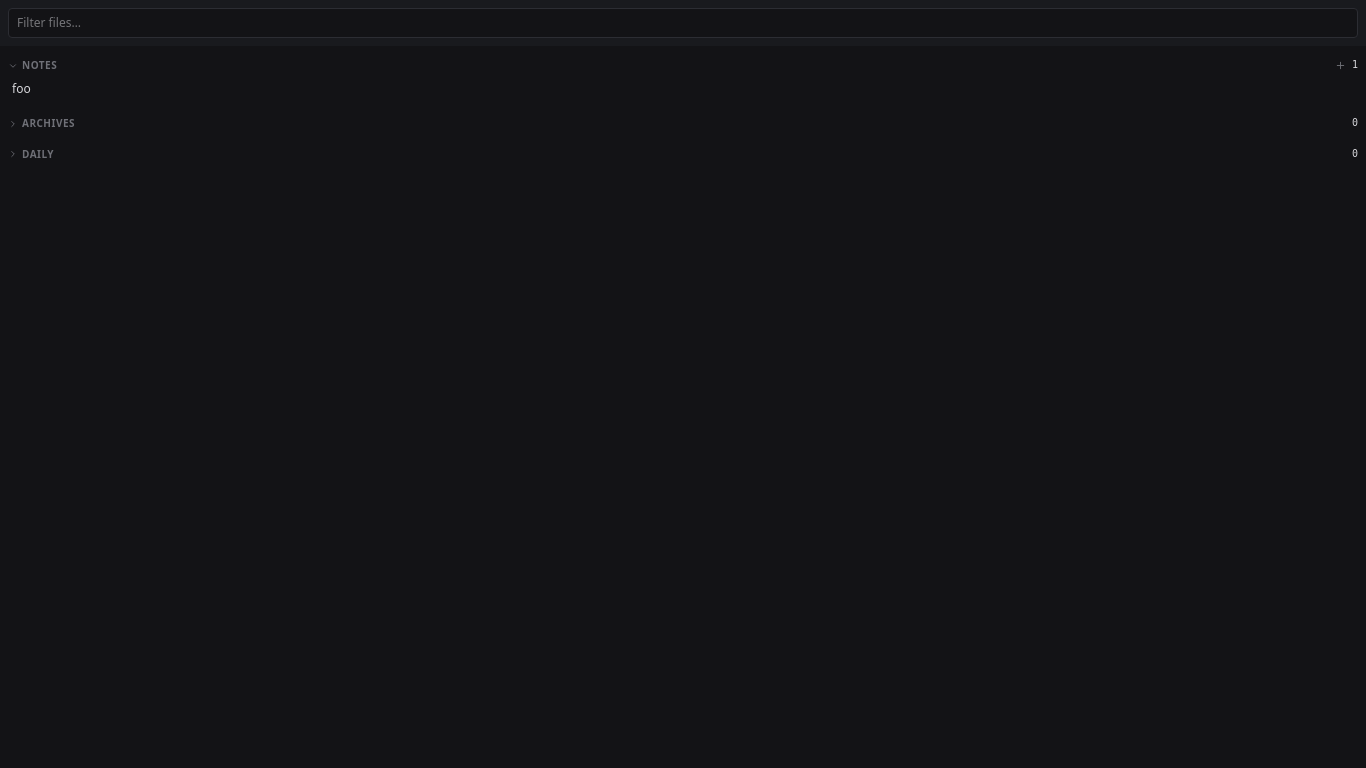
it: CreateNoteDialog › creates a note and pushes to the server-returned path
Click the button with test id "create-note-button" at (1340, 66), box left=1333, top=58, right=1348, bottom=73
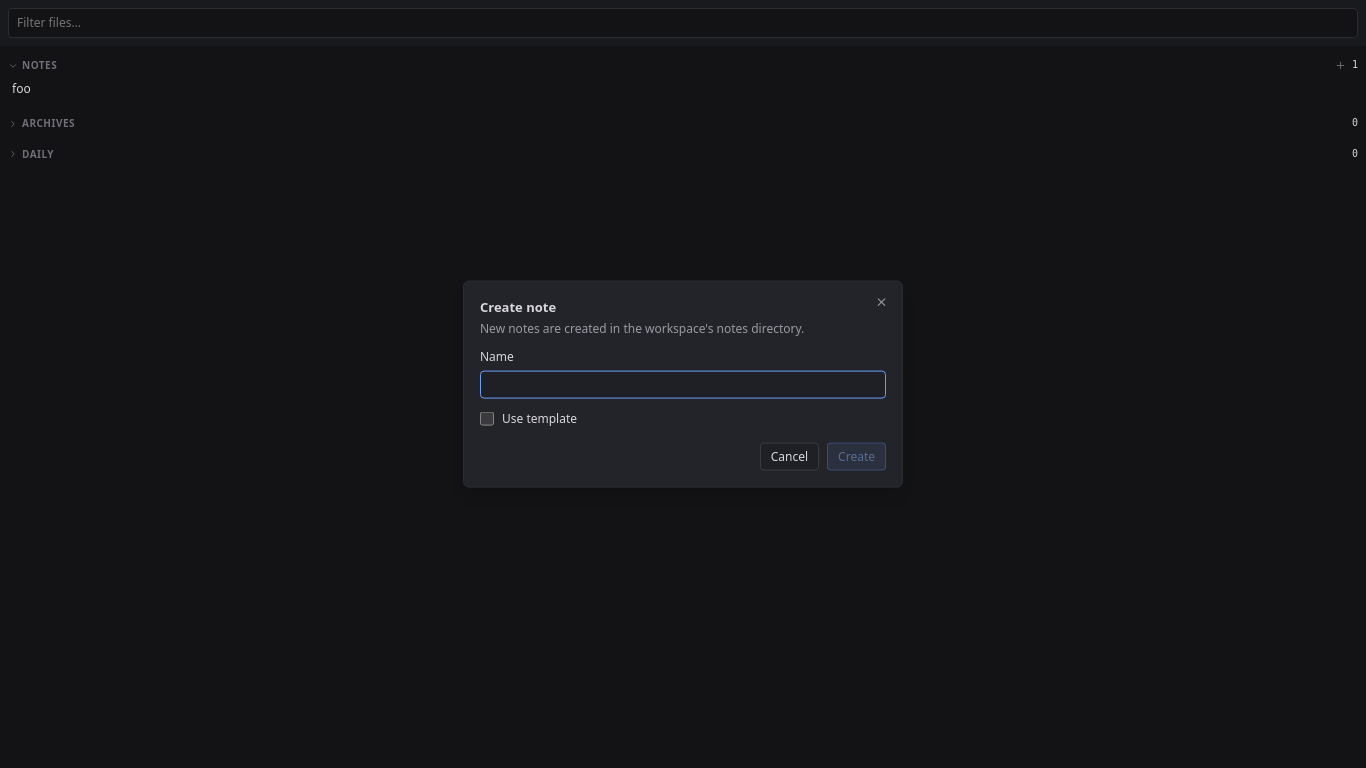
expect the field with test id "create-note-name" is shown: met
Type "foo" into the field with test id "create-note-name" at (683, 384), box left=480, top=370, right=886, bottom=398
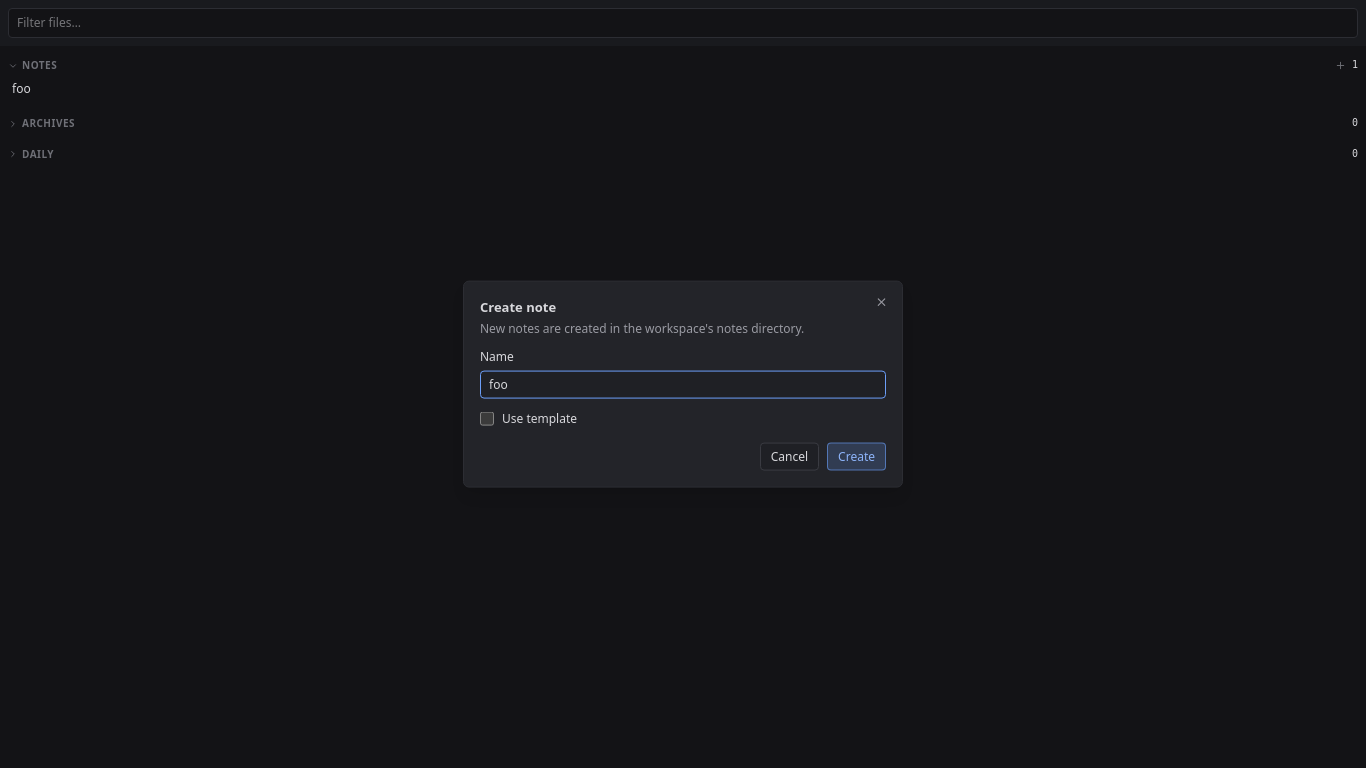
Click the button with test id "create-note-submit" at (857, 456), box left=827, top=442, right=886, bottom=470
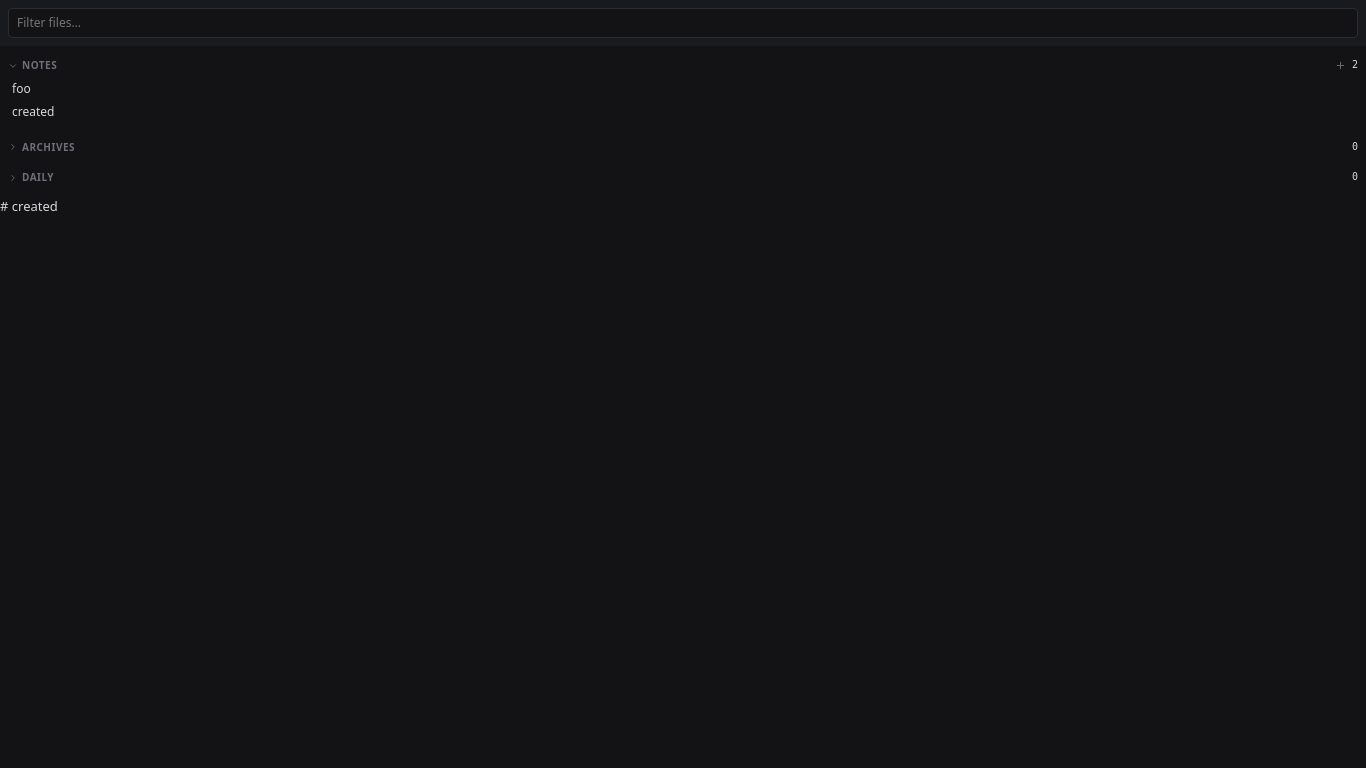
expect the field with test id "create-note-name" is gone: met
expect the text "created" is shown: met, box left=12, top=103, right=54, bottom=121
